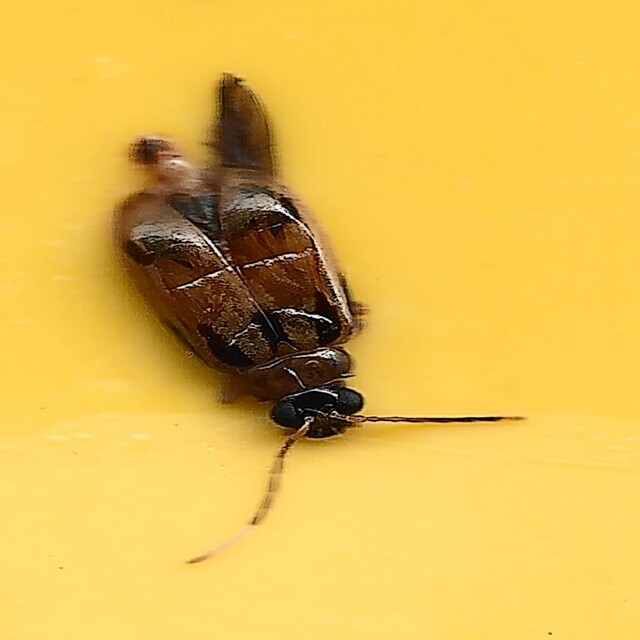Coleoptera: (108, 73, 532, 567)
